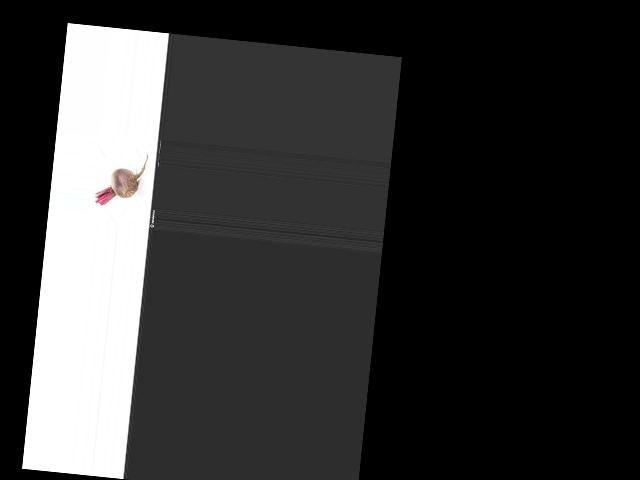beet: (95, 148, 148, 208)
